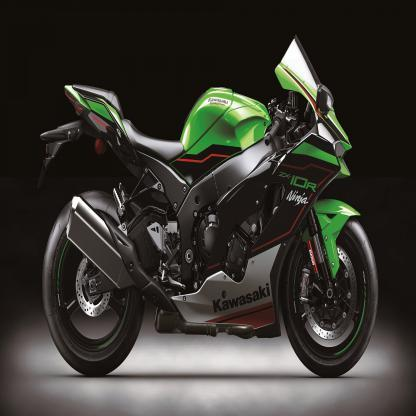Motorcycle: (40, 35, 383, 377)
